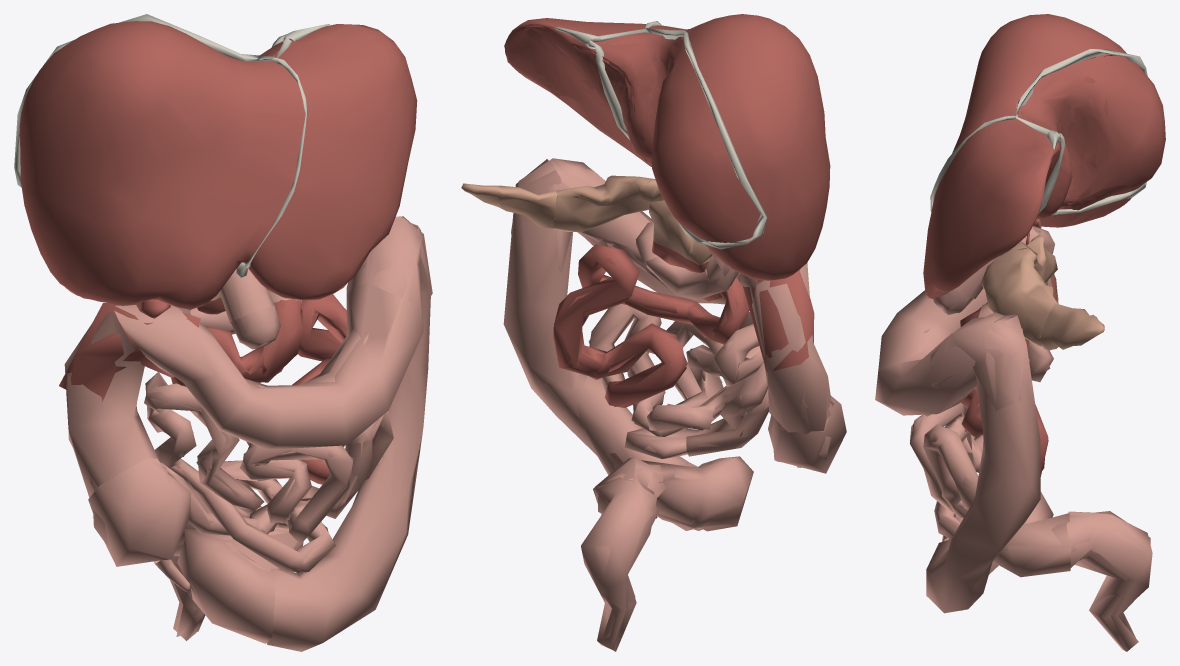
Rendered from adult_female.digestive.LOD3.glb.
3 renders of one model, left to right at view 1: azimuth 30°, elevation 25°; view 2: azimuth 150°, elevation 25°; view 3: azimuth 270°, elevation 25°, orthographic. The views are drawn at different scales.
Parts seen in each view (by area): view 1: ADULT.FEMALE.DIGESTIVE.CAPSULE_OF_THE_LIVER, ADULT.FEMALE.DIGESTIVE.TRANSVERSE_COLON, ADULT.FEMALE.DIGESTIVE.ILEUM, ADULT.FEMALE.DIGESTIVE.DESCENDING_COLON, ADULT.FEMALE.DIGESTIVE.ASCENDING_COLON, ADULT.FEMALE.DIGESTIVE.SIGMOID_COLON, ADULT.FEMALE.DIGESTIVE.CAECUM, ADULT.FEMALE.DIGESTIVE.JEJENUM, ADULT.FEMALE.DIGESTIVE.HEPATIC_FLEXURE_OF_COLON, ADULT.FEMALE.DIGESTIVE.SPLENIC_FLEXURE_OF_COLON, ADULT.FEMALE.DIGESTIVE.DUODENUM_SUPERIOR, ADULT.FEMALE.DIGESTIVE.CORONARY_LIGAMENT_OF_LIVER (+4 smaller); view 2: ADULT.FEMALE.DIGESTIVE.CAPSULE_OF_THE_LIVER, ADULT.FEMALE.DIGESTIVE.BARE_AREA_OF_LIVER, ADULT.FEMALE.DIGESTIVE.DESCENDING_COLON, ADULT.FEMALE.DIGESTIVE.JEJENUM, ADULT.FEMALE.DIGESTIVE.ILEUM, ADULT.FEMALE.DIGESTIVE.RECTUM, ADULT.FEMALE.DIGESTIVE.SIGMOID_COLON, ADULT.FEMALE.DIGESTIVE.ASCENDING_COLON, ADULT.FEMALE.DIGESTIVE.BODY_OF_PANCREAS, ADULT.FEMALE.DIGESTIVE.DIAPHRAGMATIC_SURFACE_OF_LIVER, ADULT.FEMALE.DIGESTIVE.TRANSVERSE_COLON, ADULT.FEMALE.DIGESTIVE.HEPATIC_FLEXURE_OF_COLON (+13 smaller); view 3: ADULT.FEMALE.DIGESTIVE.CAPSULE_OF_THE_LIVER, ADULT.FEMALE.DIGESTIVE.DESCENDING_COLON, ADULT.FEMALE.DIGESTIVE.BARE_AREA_OF_LIVER, ADULT.FEMALE.DIGESTIVE.TRANSVERSE_COLON, ADULT.FEMALE.DIGESTIVE.RECTUM, ADULT.FEMALE.DIGESTIVE.ILEUM, ADULT.FEMALE.DIGESTIVE.BODY_OF_PANCREAS, ADULT.FEMALE.DIGESTIVE.SIGMOID_COLON, ADULT.FEMALE.DIGESTIVE.CAUDATE_LOBE, ADULT.FEMALE.DIGESTIVE.SPLENIC_FLEXURE_OF_COLON, ADULT.FEMALE.DIGESTIVE.TAIL_OF_PANCREAS, ADULT.FEMALE.DIGESTIVE.CORONARY_LIGAMENT_OF_LIVER (+7 smaller).
Boxes of the visible parts, x1,y1,x2,y2 form: ADULT.FEMALE.DIGESTIVE.CAPSULE_OF_THE_LIVER: [19, 21, 417, 309]; ADULT.FEMALE.DIGESTIVE.TRANSVERSE_COLON: [114, 216, 423, 449]; ADULT.FEMALE.DIGESTIVE.ILEUM: [144, 372, 393, 573]; ADULT.FEMALE.DIGESTIVE.DESCENDING_COLON: [266, 222, 431, 651]; ADULT.FEMALE.DIGESTIVE.ASCENDING_COLON: [64, 311, 158, 497]; ADULT.FEMALE.DIGESTIVE.SIGMOID_COLON: [177, 506, 303, 643]; ADULT.FEMALE.DIGESTIVE.CAECUM: [88, 458, 191, 566]; ADULT.FEMALE.DIGESTIVE.JEJENUM: [171, 294, 346, 484]; ADULT.FEMALE.DIGESTIVE.HEPATIC_FLEXURE_OF_COLON: [59, 303, 200, 403]; ADULT.FEMALE.DIGESTIVE.SPLENIC_FLEXURE_OF_COLON: [347, 216, 432, 306]; ADULT.FEMALE.DIGESTIVE.DUODENUM_SUPERIOR: [219, 268, 275, 323]; ADULT.FEMALE.DIGESTIVE.CORONARY_LIGAMENT_OF_LIVER: [14, 14, 291, 187]; ADULT.FEMALE.DIGESTIVE.CAPSULE_OF_THE_LIVER: [504, 14, 830, 280]; ADULT.FEMALE.DIGESTIVE.BARE_AREA_OF_LIVER: [589, 35, 760, 242]; ADULT.FEMALE.DIGESTIVE.DESCENDING_COLON: [503, 159, 702, 530]; ADULT.FEMALE.DIGESTIVE.JEJENUM: [553, 244, 749, 407]; ADULT.FEMALE.DIGESTIVE.ILEUM: [588, 304, 767, 459]; ADULT.FEMALE.DIGESTIVE.RECTUM: [581, 479, 659, 651]; ADULT.FEMALE.DIGESTIVE.SIGMOID_COLON: [593, 456, 753, 531]; ADULT.FEMALE.DIGESTIVE.ASCENDING_COLON: [752, 263, 831, 434]; ADULT.FEMALE.DIGESTIVE.BODY_OF_PANCREAS: [553, 175, 655, 231]; ADULT.FEMALE.DIGESTIVE.DIAPHRAGMATIC_SURFACE_OF_LIVER: [504, 24, 801, 280]; ADULT.FEMALE.DIGESTIVE.TRANSVERSE_COLON: [550, 160, 760, 304]; ADULT.FEMALE.DIGESTIVE.HEPATIC_FLEXURE_OF_COLON: [740, 270, 814, 372]; ADULT.FEMALE.DIGESTIVE.CAPSULE_OF_THE_LIVER: [923, 14, 1132, 298]; ADULT.FEMALE.DIGESTIVE.DESCENDING_COLON: [926, 315, 1040, 613]; ADULT.FEMALE.DIGESTIVE.BARE_AREA_OF_LIVER: [1020, 55, 1165, 206]; ADULT.FEMALE.DIGESTIVE.TRANSVERSE_COLON: [875, 288, 1017, 416]; ADULT.FEMALE.DIGESTIVE.RECTUM: [1066, 511, 1152, 651]; ADULT.FEMALE.DIGESTIVE.ILEUM: [910, 341, 1053, 539]; ADULT.FEMALE.DIGESTIVE.BODY_OF_PANCREAS: [981, 248, 1058, 346]; ADULT.FEMALE.DIGESTIVE.SIGMOID_COLON: [942, 491, 1071, 577]; ADULT.FEMALE.DIGESTIVE.CAUDATE_LOBE: [1020, 71, 1111, 218]; ADULT.FEMALE.DIGESTIVE.SPLENIC_FLEXURE_OF_COLON: [930, 312, 1024, 410]; ADULT.FEMALE.DIGESTIVE.TAIL_OF_PANCREAS: [1040, 303, 1104, 350]; ADULT.FEMALE.DIGESTIVE.CORONARY_LIGAMENT_OF_LIVER: [1016, 49, 1147, 214].
Size of the model in its own units: 0.2534 by 0.4455 by 0.1996.
